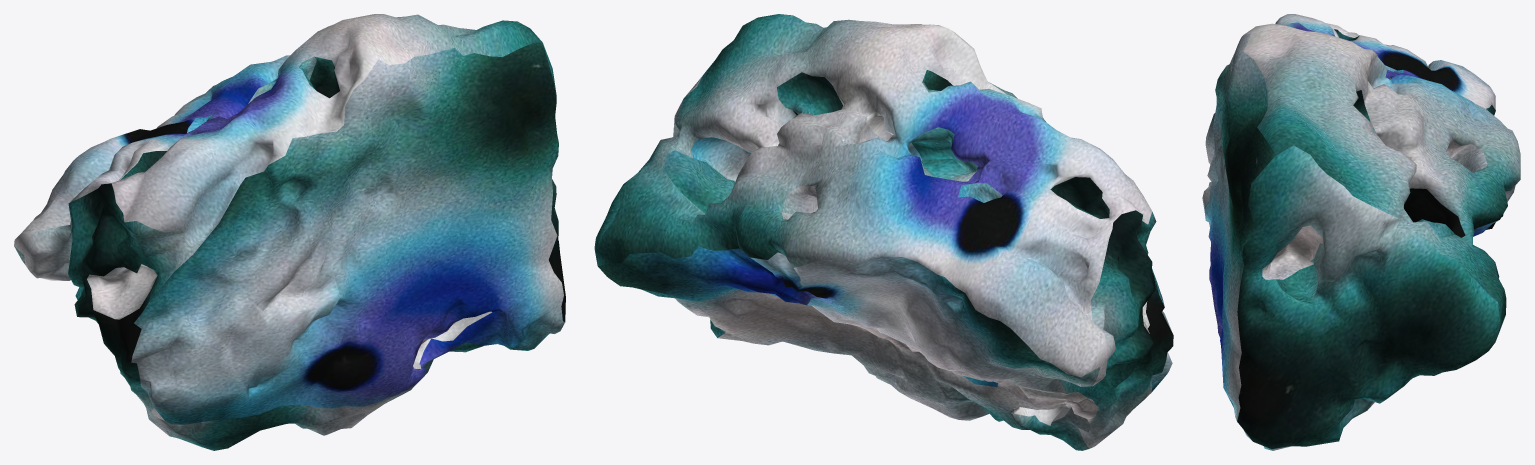
Rendered from 푸른색 찌꺼기.glb.
The picture shows the model from 3 angles, left to right: view 1: azimuth 30°, elevation 25°; view 2: azimuth 150°, elevation 25°; view 3: azimuth 270°, elevation 25°; orthographic projection.
Visible parts, largest first — view 1: Aset_nature__S_vjcvaey_00_lod0.2; view 2: Aset_nature__S_vjcvaey_00_lod0.2; view 3: Aset_nature__S_vjcvaey_00_lod0.2.
Boxes of the visible parts, box(x1,y1,x2,y2) form: Aset_nature__S_vjcvaey_00_lod0.2: box(14, 14, 565, 450); Aset_nature__S_vjcvaey_00_lod0.2: box(594, 14, 1173, 450); Aset_nature__S_vjcvaey_00_lod0.2: box(1202, 14, 1520, 450).
Bounding box in the file's own units: 8.3 × 6.3 × 4.72.
Materials: 1 (1 with a texture image).
